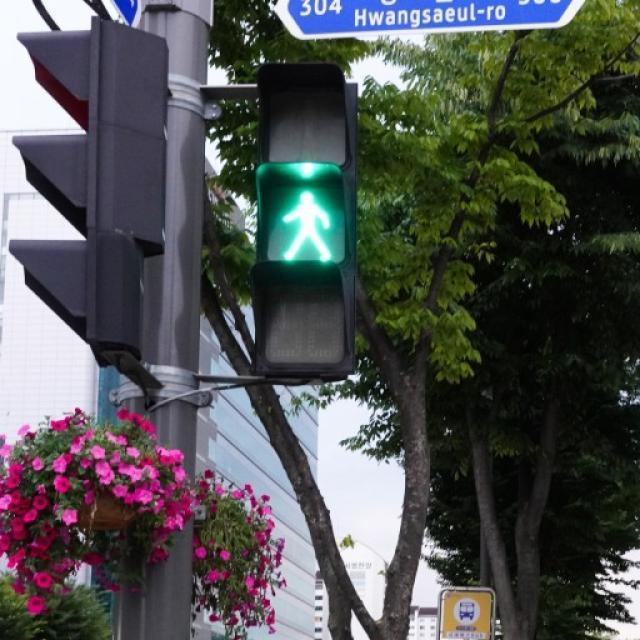green_light: (271, 187, 341, 269)
